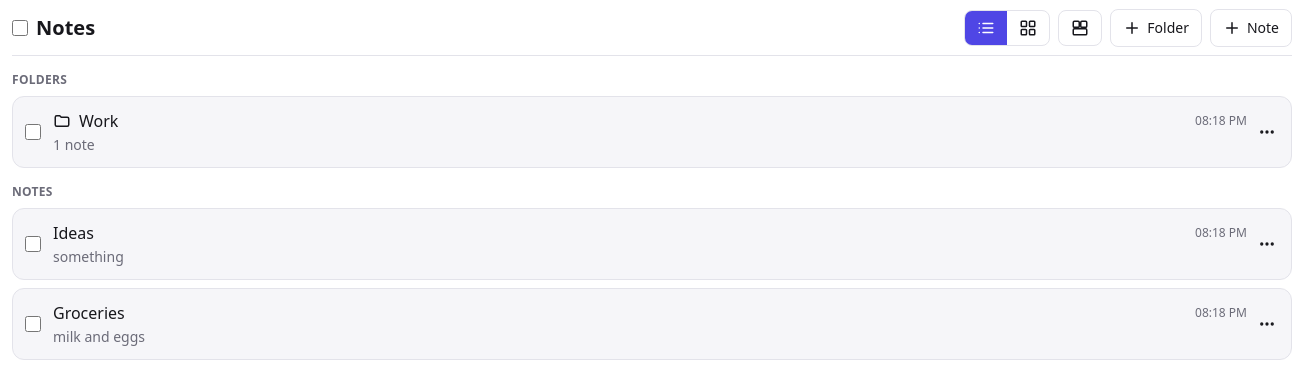
Scenario: Library on desktop › greys out Copy, Move and Tag when only a folder is selected
Step 1. Click the checkbox named "Select Work" → (33, 132), box x1=25 y1=124 x2=41 y2=140
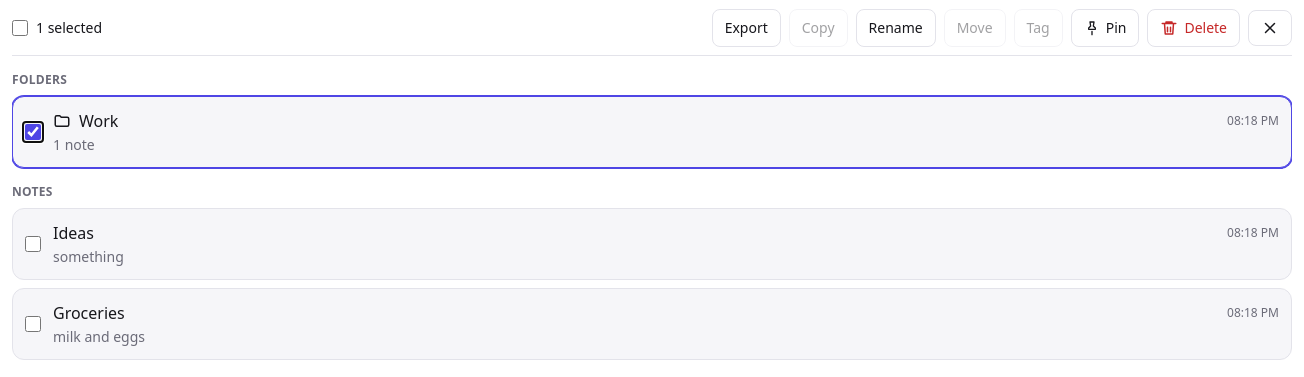
Result: the button "Copy" is disabled at x1=789 y1=8 x2=848 y2=46
Result: the button "Move" is disabled at x1=944 y1=8 x2=1006 y2=46
Result: the button "Tag" is disabled at x1=1014 y1=8 x2=1063 y2=46
